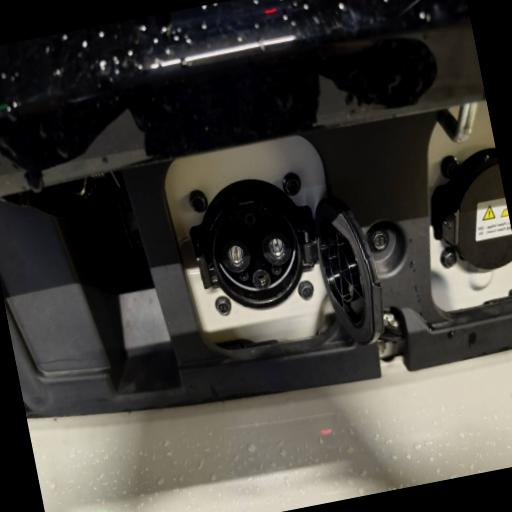DC_hole: (257, 224, 296, 270), (216, 234, 256, 276)
PE: (250, 266, 272, 294)
charging_port: (198, 181, 316, 318)
